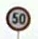limite 50: (4, 5, 31, 30)
